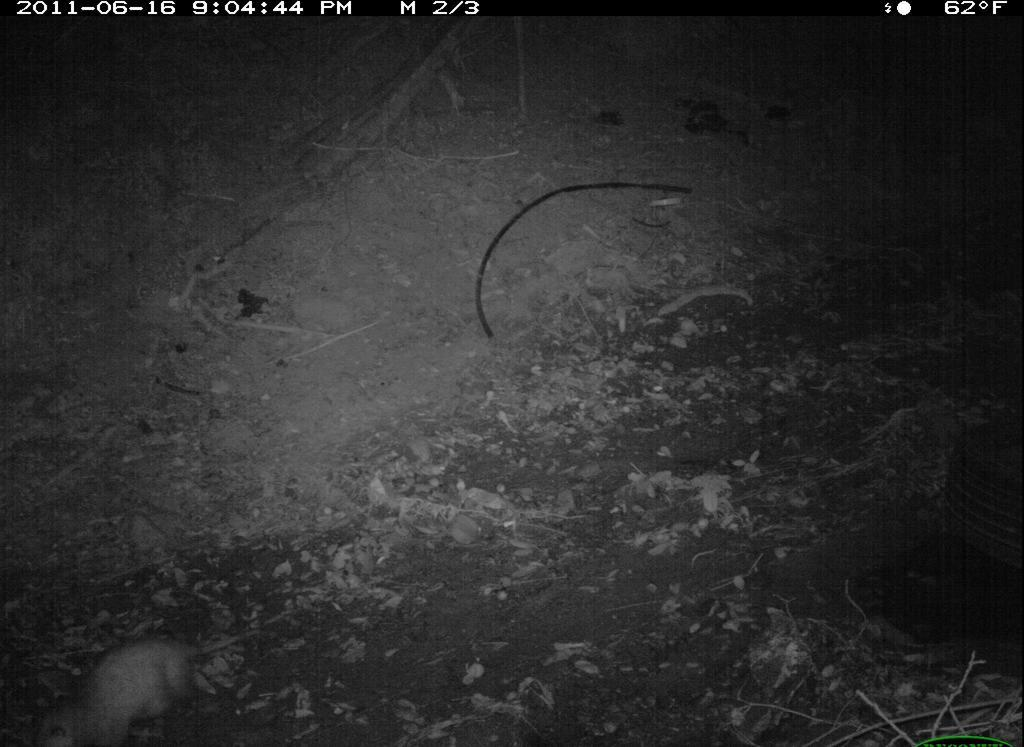opossum: (22, 617, 277, 745)
